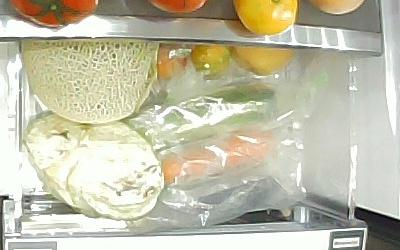cabbage: (23, 112, 165, 221)
carrot_vinyl: (165, 124, 272, 186)
melon: (19, 40, 156, 123)
pear_vinyl: (226, 44, 294, 76)
tangerine_vinyl: (191, 46, 230, 82)
tomato_vinyl: (157, 43, 187, 80)
zucchini_vinyl: (121, 83, 277, 149)
